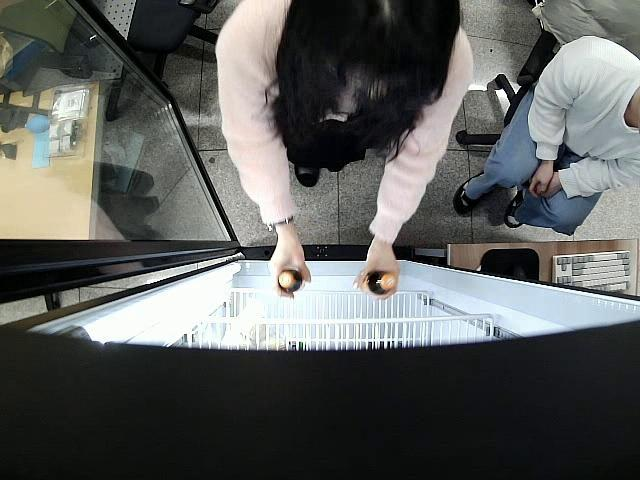17_vita500: (357, 271, 396, 296), (278, 268, 303, 292)
